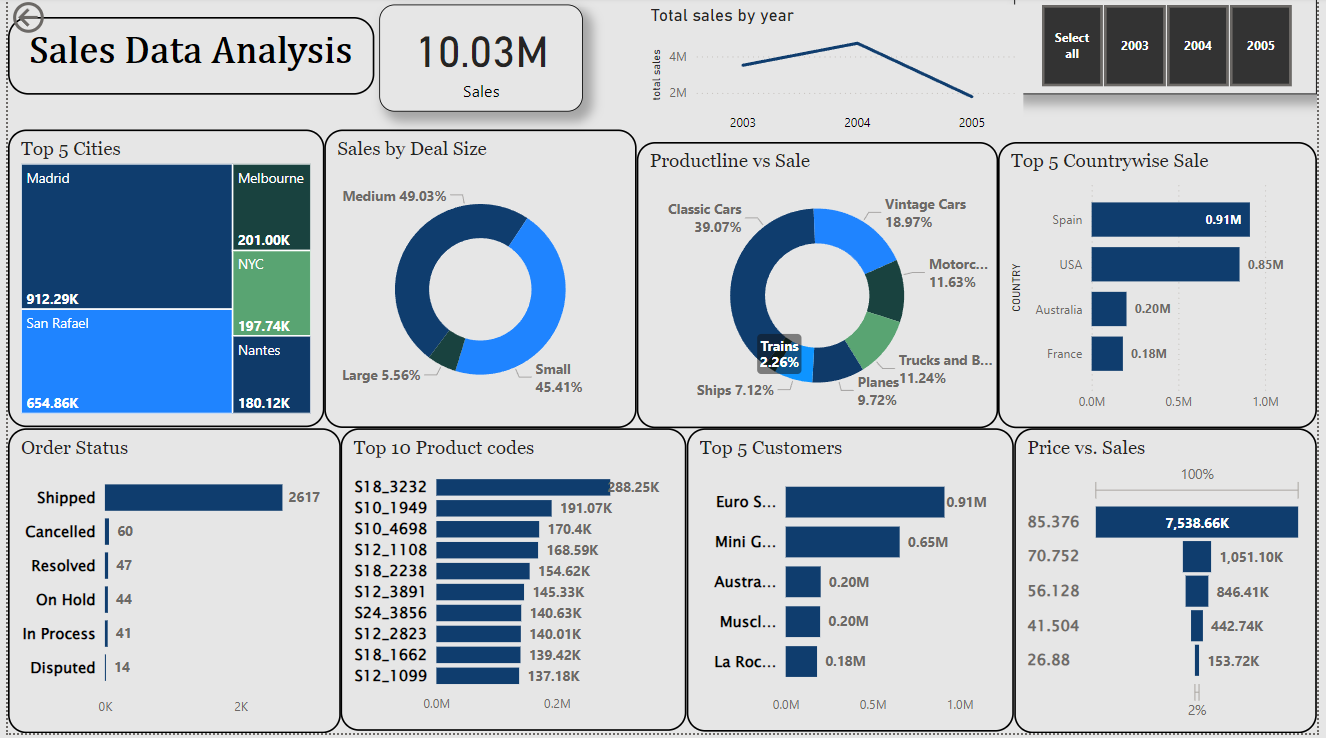

Layout of this report page (visuals, bound fields, positions):
{"tool":"powerbi","page":{"name":"Page 1","canvas":[1280,720],"ordinal":0},"visuals":[{"type":"textbox","box":[0,19.6,358.3,75.8],"z":0},{"type":"treemap","title":"Top 5 Cities","fields":{"Group":["sales_data_sample.CITY"],"Values":["Sum(sales_data_sample.SALES)"]},"box":[0,129.6,309.4,291],"z":1000},{"type":"barChart","title":"Order Status","fields":{"Category":["sales_data_sample.STATUS"],"Y":["CountNonNull(sales_data_sample.ORDERNUMBER)"]},"box":[0,421.9,325.3,298.4],"z":2000},{"type":"clusteredBarChart","title":"Top 10 Product codes","fields":{"Category":["sales_data_sample.PRODUCTCODE"],"Y":["Sum(sales_data_sample.SALES)"]},"box":[325.3,421.9,338.7,295.9],"z":3000},{"type":"donutChart","title":"Sales by Deal Size","fields":{"Category":["sales_data_sample.DEALSIZE"],"Y":["CountNonNull(sales_data_sample.SALES)"]},"box":[309.4,129.6,305.7,292.3],"z":4000},{"type":"slicer","fields":{"Values":["sales_data_sample.YEAR_ID"]},"box":[984.4,0,295.9,95.4],"z":5000},{"type":"actionButton","box":[0,0,100,40],"z":6000},{"type":"barChart","title":"Top 5 Countrywise Sale","fields":{"Category":["sales_data_sample.COUNTRY"],"Y":["Sum(sales_data_sample.SALES)"]},"box":[968.5,141.8,311.8,280],"z":7000},{"type":"barChart","title":"Top 5 Customers","fields":{"Category":["sales_data_sample.CUSTOMERNAME"],"Y":["Sum(sales_data_sample.SALES)"]},"box":[664,421.9,320.4,297.1],"z":8000},{"type":"donutChart","title":"Productline vs Sale","fields":{"Category":["sales_data_sample.PRODUCTLINE"],"Y":["Sum(sales_data_sample.SALES)"]},"box":[615.1,141.8,353.4,280],"z":9000},{"type":"funnel","title":"Price vs. Sales","fields":{"Category":["sales_data_sample.PRICEEACH 2"],"Y":["Sum(sales_data_sample.SALES)"]},"box":[984.4,421.9,295.9,298.4],"z":10000},{"type":"card","fields":{"Values":["sales_data_sample.total sales"]},"box":[363.2,7.3,199.3,105.2],"z":11000},{"type":"lineChart","title":"Total sales by year","fields":{"Y":["sales_data_sample.total sales"],"Category":["sales_data_sample.year"]},"box":[623.6,7.3,369.3,134.5],"z":12000}]}

Visuals, with their boxes in screenshot pixels (x1, y1, x2, y2), scaled from the page's 1280x720 canvas onto the 1326x738 screenshot:
textbox: 0/20/371/98
"Top 5 Cities" treemap: 0/133/321/431
"Order Status" barChart: 0/432/337/737
"Top 10 Product codes" clusteredBarChart: 337/432/688/736
"Sales by Deal Size" donutChart: 321/133/637/432
slicer - sales_data_sample.YEAR_ID: 1020/0/1325/98
actionButton: 0/0/104/41
"Top 5 Countrywise Sale" barChart: 1003/145/1325/432
"Top 5 Customers" barChart: 688/432/1020/737
"Productline vs Sale" donutChart: 637/145/1003/432
"Price vs. Sales" funnel: 1020/432/1325/737
card - sales_data_sample.total sales: 376/7/583/115
"Total sales by year" lineChart: 646/7/1029/145
